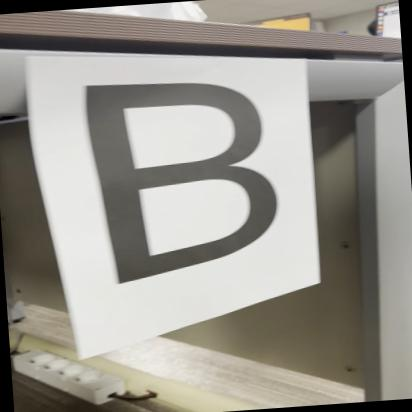seat: (60, 58, 322, 295)
